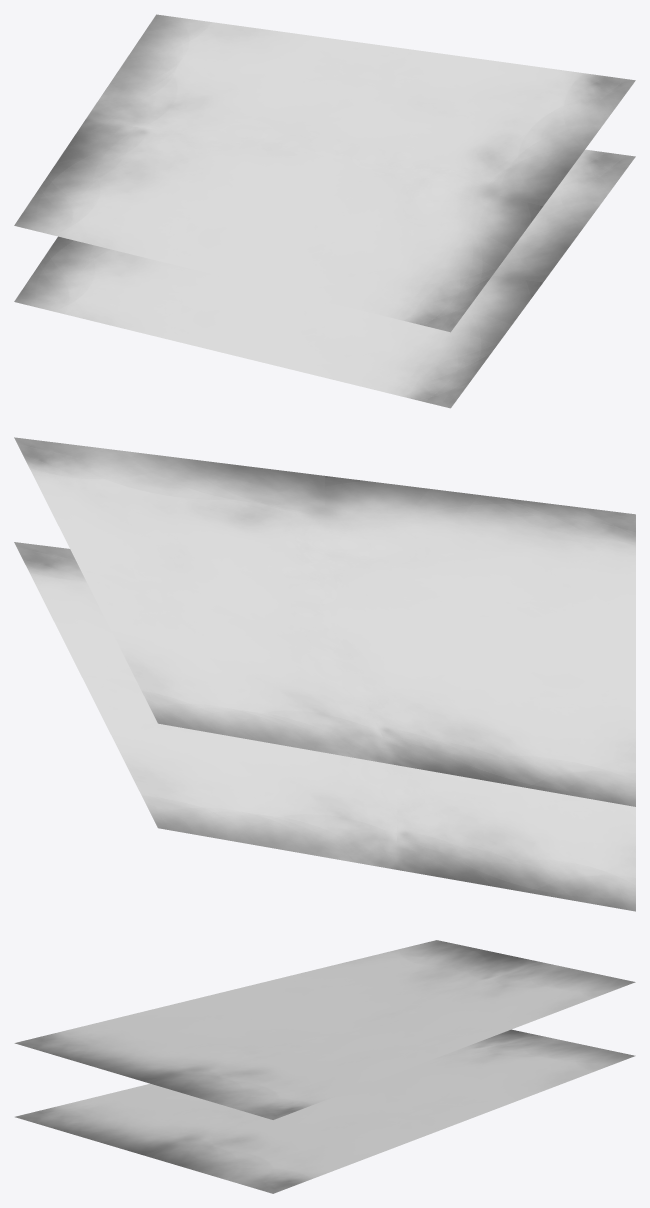
File: CourseWinter_CurveFloor_8_5.fbx
The picture shows the model from 3 angles, top to bottom: view 1: azimuth 30°, elevation 25°; view 2: azimuth 150°, elevation 25°; view 3: azimuth 270°, elevation 25°; orthographic projection. The views are drawn at different scales.
Parts seen in each view (by area): view 1: polySurface715; view 2: polySurface715; view 3: polySurface715.
Part boxes in pixels (x1,y1,x2,y2): polySurface715: [14, 14, 635, 408]; polySurface715: [14, 437, 635, 911]; polySurface715: [14, 940, 635, 1193].
Size of the model in its own units: 7.38 by 2 by 7.64.
1 material, 1 textured.
